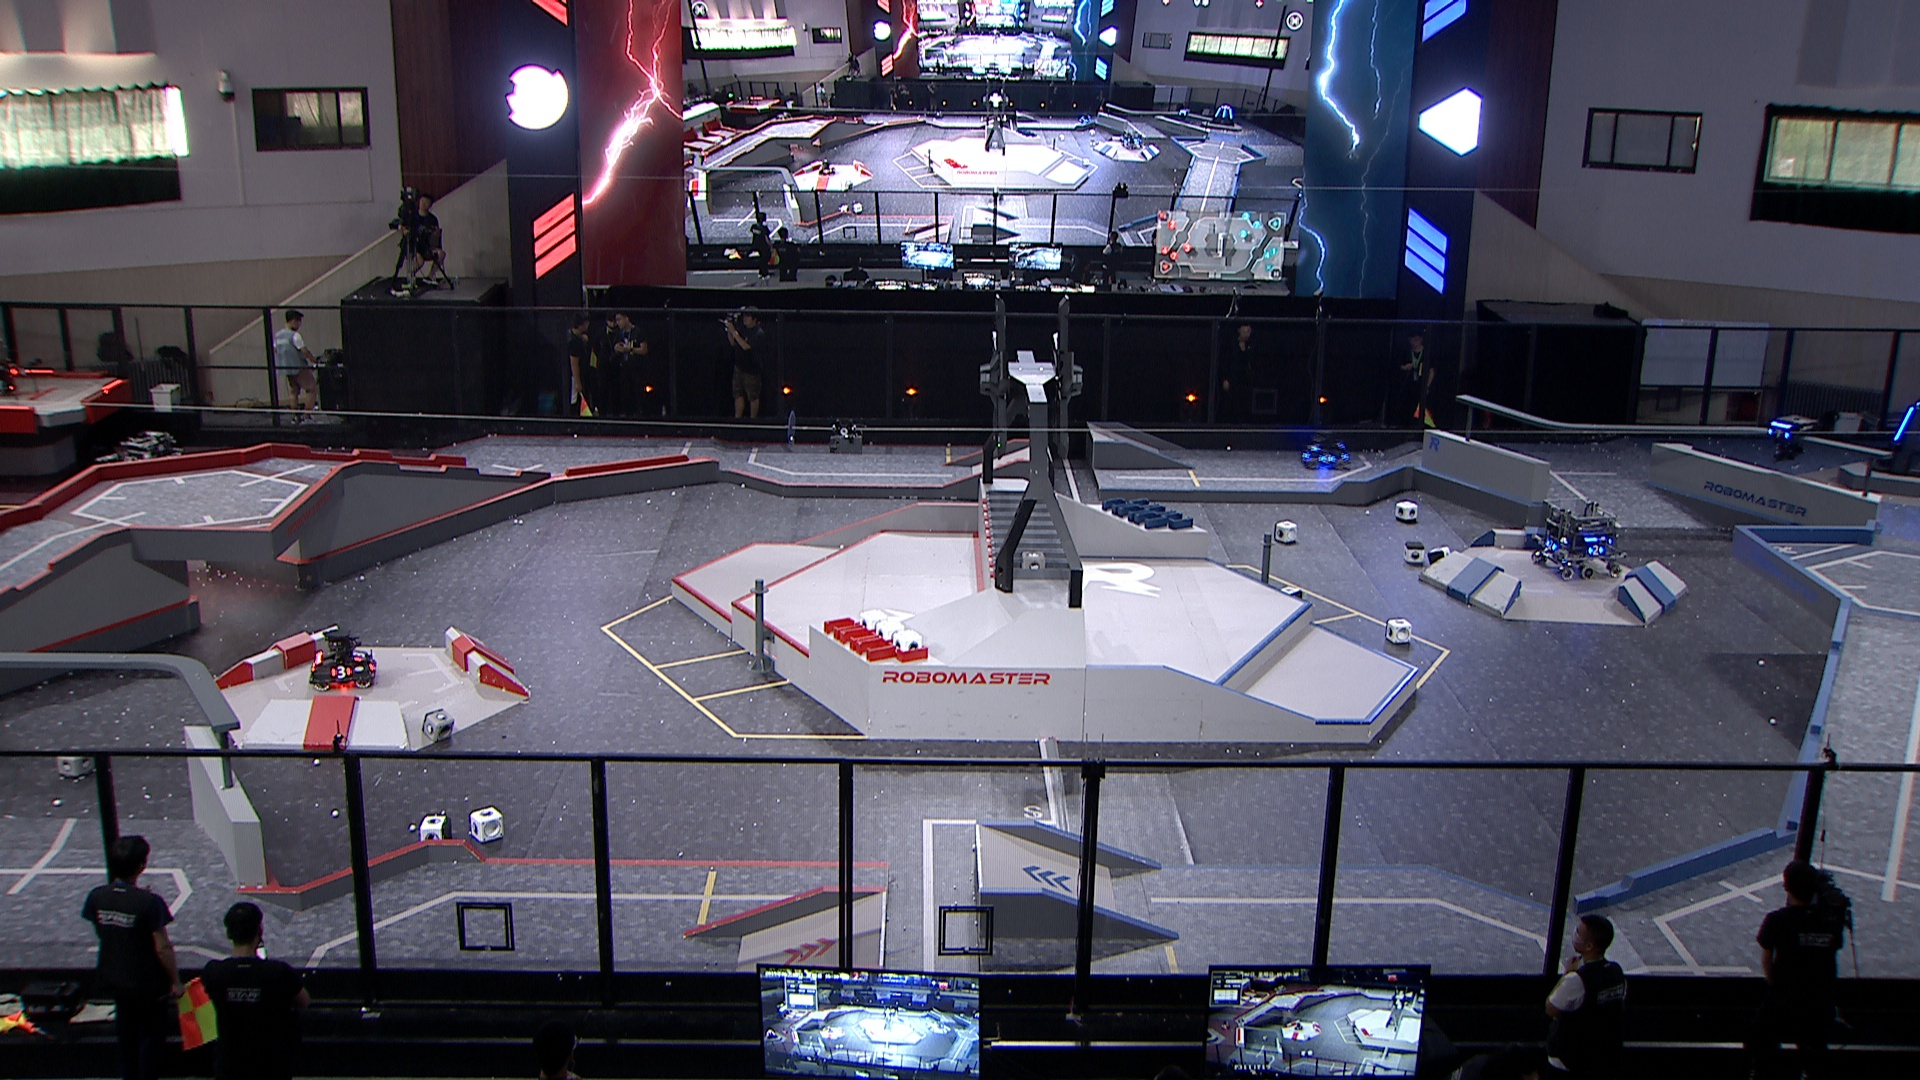armor: (1894, 405, 1916, 442), (328, 665, 353, 679), (1764, 427, 1792, 438), (352, 647, 367, 665), (1586, 543, 1605, 556), (1304, 440, 1323, 454), (1544, 538, 1560, 551), (1319, 452, 1337, 462), (1298, 450, 1311, 462)
base: (1873, 396, 1920, 485)
car: (1527, 495, 1629, 584), (92, 431, 185, 513), (309, 628, 382, 690), (1294, 425, 1352, 473)
watcher: (1766, 411, 1817, 463)
